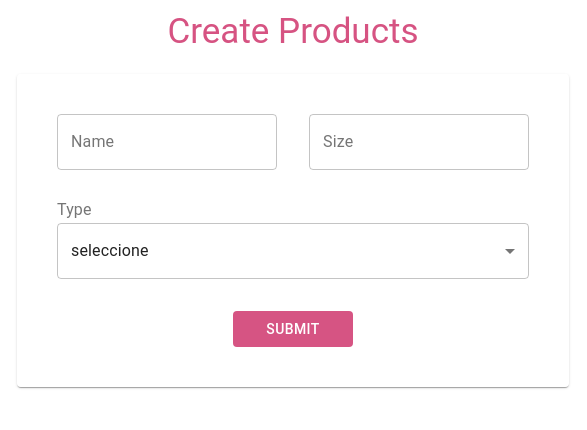
Test case: when the user submits the form › the form page must display the success message "Product Stored" and clean the fields values
The image size is (587, 430).
Type "My product" into the field labelled "Name" at (167, 142), box x1=57 y1=114 x2=277 y2=170
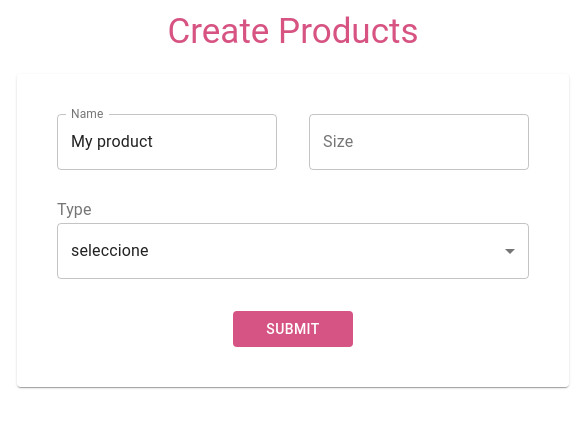
Type "10" into the field labelled "Size" at (419, 142), box x1=309 y1=114 x2=529 y2=170
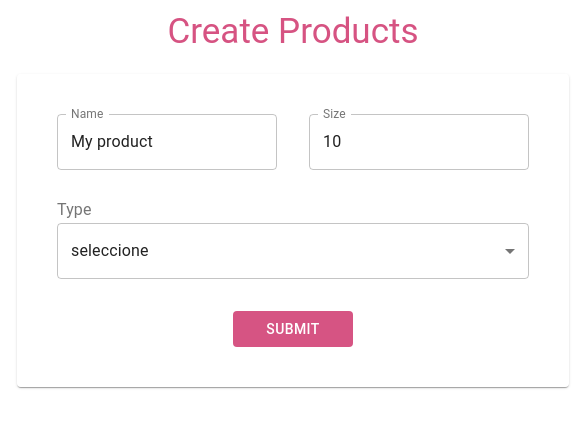
Select "electronic" in the dropdown labelled "Type" at (293, 251), box x1=57 y1=223 x2=529 y2=279
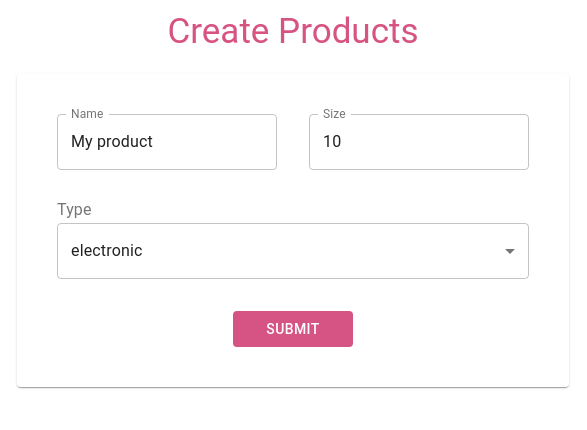
Click the button "Submit" at (293, 329), box x1=233 y1=311 x2=353 y2=347
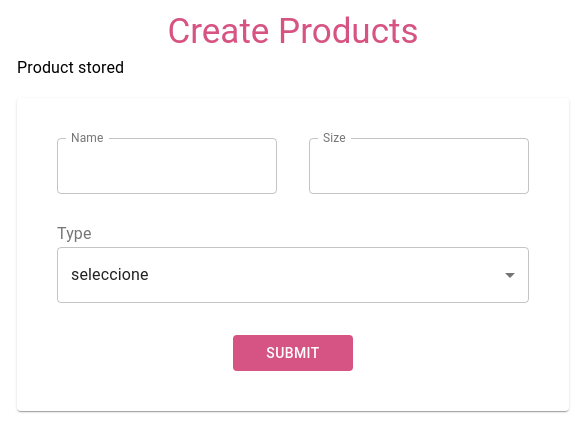
Now the text "Product stored" is shown, box x1=17 y1=58 x2=124 y2=77
Now the field labelled "Name" is empty, box x1=57 y1=138 x2=277 y2=194
Now the field labelled "Size" is empty, box x1=309 y1=138 x2=529 y2=194
